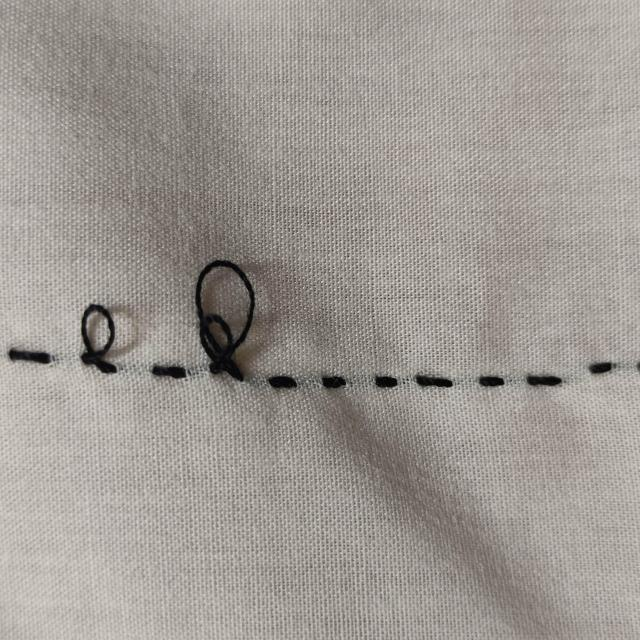gray stitch: (4, 262, 620, 396)
